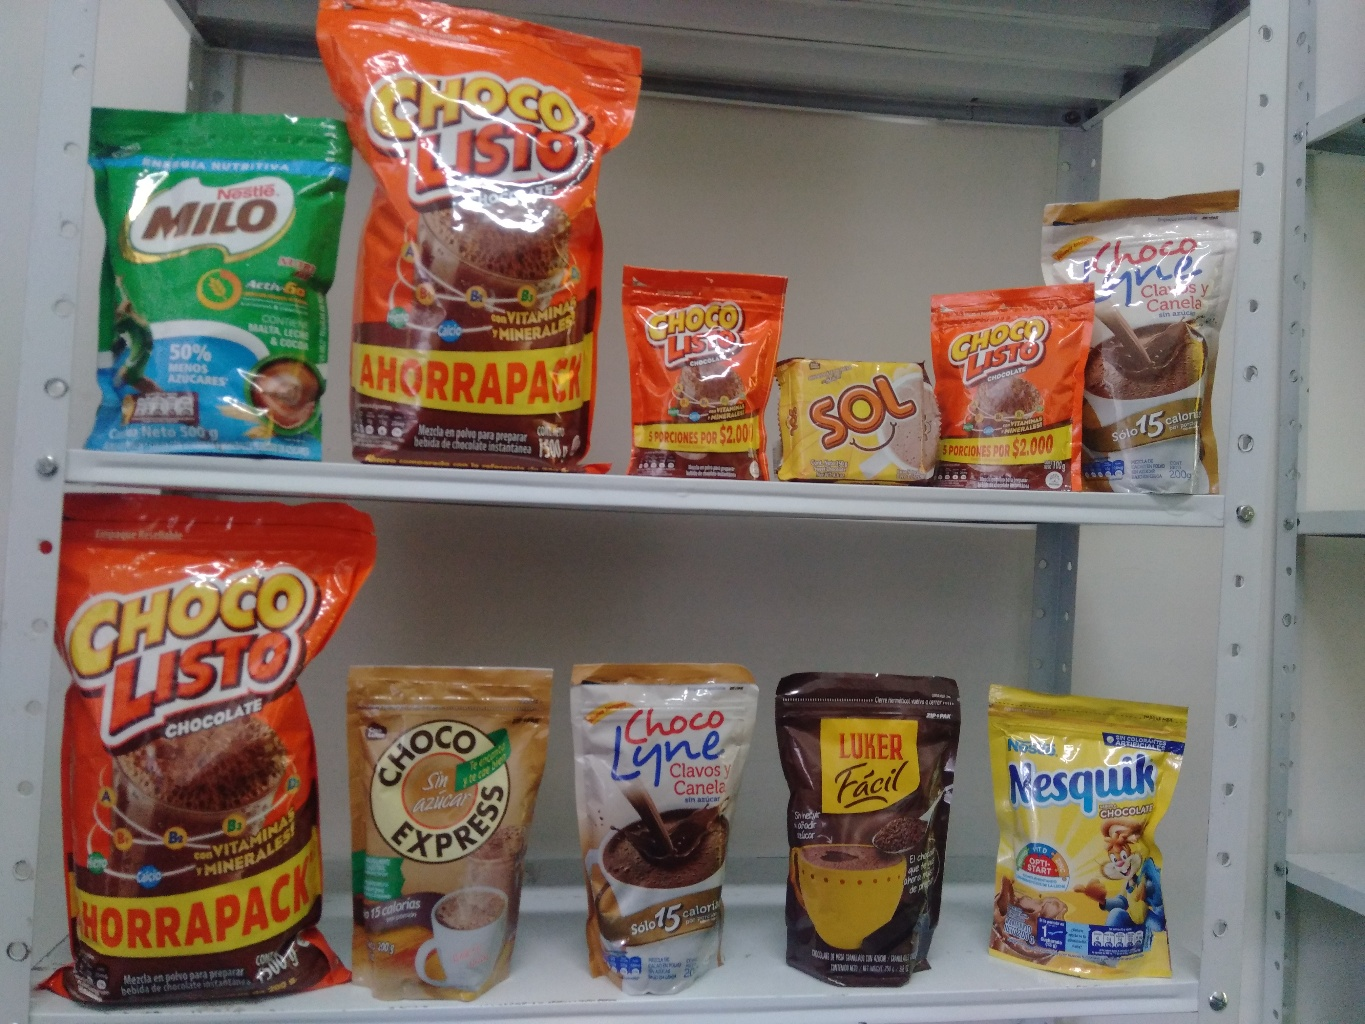COL0170103DYP1,500: (314, 1, 657, 472)
COL0170205DYP50000: (70, 99, 370, 459)
COL0170303DYP20000: (977, 675, 1199, 981)
